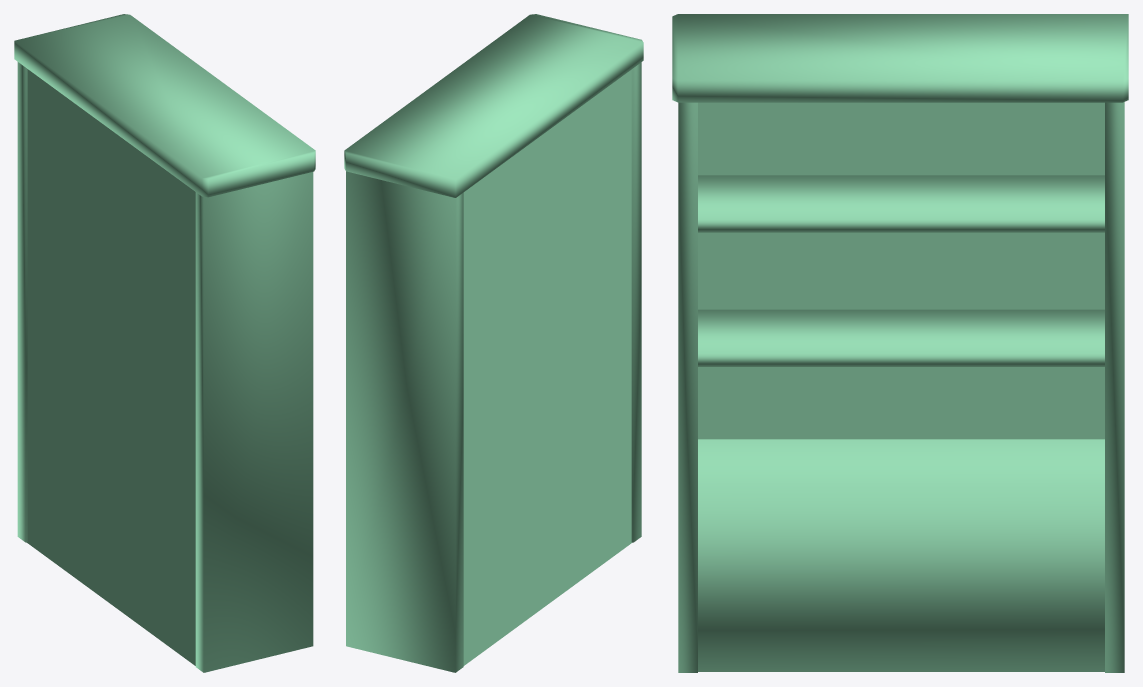
The model's file is shelf1.fbx.
3 views of the same model, side by side, from view 1: azimuth 30°, elevation 25°; view 2: azimuth 150°, elevation 25°; view 3: azimuth 270°, elevation 25° (orthographic). The views are drawn at different scales.
Visible parts, largest first — view 1: shelf1; view 2: shelf1; view 3: shelf1.
Boxes of the visible parts, x1,y1,x2,y2 form: shelf1: (14, 14, 315, 672); shelf1: (344, 14, 643, 672); shelf1: (672, 14, 1128, 672).
Bounding box in the file's own units: 35.85 × 149 × 104.
